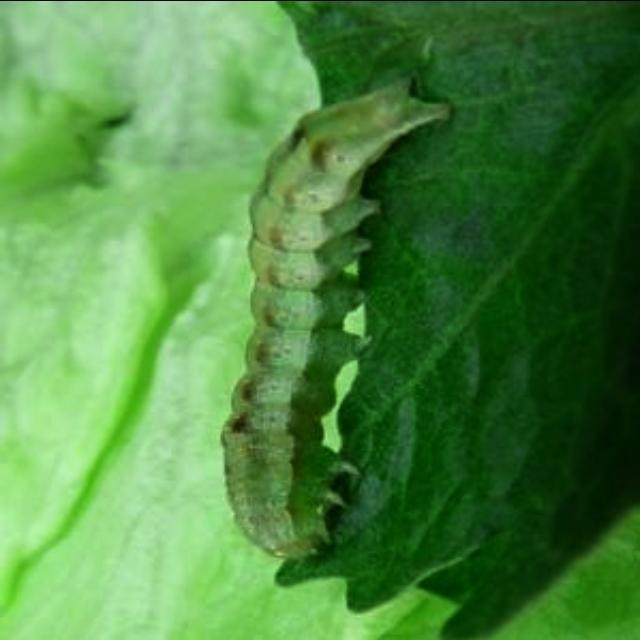Cotton bollworm: (126, 69, 520, 586)
